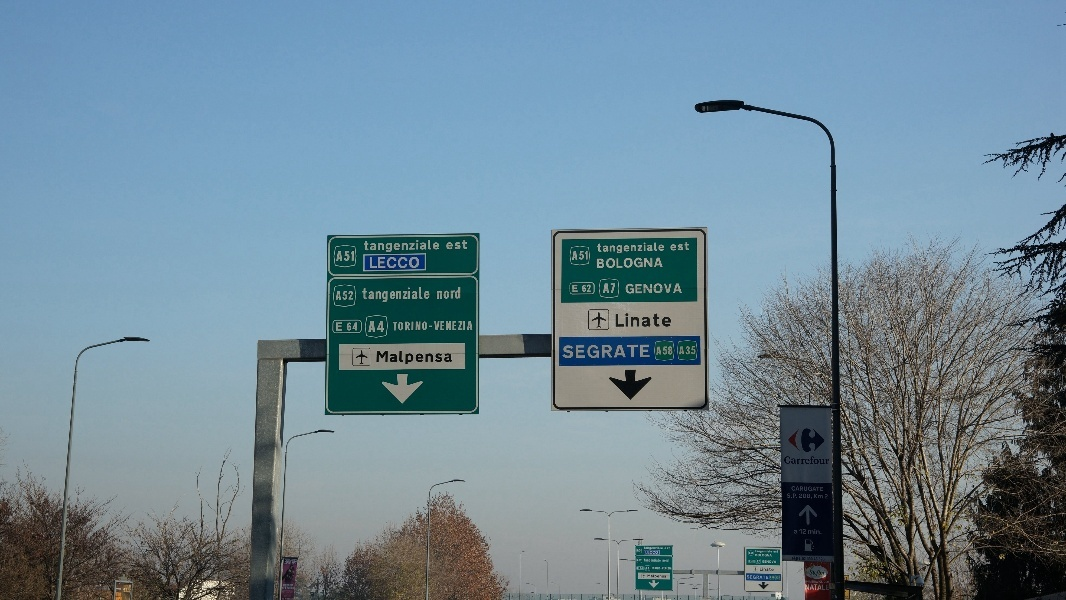text: (577, 344, 592, 360), (593, 344, 608, 360), (609, 344, 624, 360), (625, 344, 640, 360), (369, 288, 384, 303), (385, 288, 400, 303), (401, 288, 416, 303), (385, 351, 400, 366), (401, 351, 416, 366), (417, 351, 432, 366), (433, 351, 448, 366), (625, 313, 640, 328), (641, 313, 656, 328), (657, 313, 672, 328), (369, 240, 384, 253), (385, 240, 400, 253), (401, 240, 416, 253), (417, 240, 432, 253), (417, 288, 430, 303), (609, 242, 624, 255), (625, 242, 640, 255), (641, 242, 656, 255), (564, 344, 576, 360), (385, 257, 400, 269), (401, 257, 416, 269), (625, 283, 640, 295), (641, 283, 656, 295), (657, 283, 672, 295), (370, 321, 384, 333), (370, 257, 384, 269), (401, 321, 416, 332), (417, 321, 432, 332), (433, 321, 448, 332), (449, 321, 464, 332), (449, 239, 464, 250), (673, 241, 688, 252), (609, 258, 624, 269), (625, 258, 640, 269), (641, 258, 656, 269), (449, 287, 461, 300), (338, 251, 352, 262), (641, 344, 650, 360), (437, 287, 448, 300), (597, 242, 608, 255), (337, 291, 352, 300), (615, 313, 624, 328), (657, 347, 672, 356), (785, 456, 800, 465), (801, 456, 816, 465), (597, 258, 608, 269), (673, 283, 683, 295), (817, 456, 830, 465), (577, 251, 588, 261), (377, 351, 384, 366), (657, 242, 665, 255), (433, 240, 440, 253), (362, 288, 368, 303), (801, 486, 816, 492), (465, 321, 473, 332), (582, 285, 592, 293), (753, 575, 769, 580), (393, 321, 400, 332), (657, 258, 664, 269), (609, 283, 616, 294), (801, 494, 816, 499), (817, 570, 827, 577), (817, 585, 830, 590), (681, 346, 688, 355), (689, 346, 696, 355), (788, 494, 800, 499), (817, 494, 829, 499), (802, 557, 816, 561), (364, 240, 368, 253), (817, 580, 830, 584), (806, 585, 816, 590), (644, 559, 656, 563), (792, 486, 800, 492), (808, 529, 816, 535), (347, 322, 352, 331), (353, 322, 358, 331), (449, 351, 452, 366), (657, 567, 672, 570), (641, 567, 656, 570), (817, 486, 824, 492), (646, 567, 656, 571), (646, 551, 656, 555), (417, 257, 420, 269), (644, 547, 656, 550), (657, 575, 666, 579), (801, 529, 807, 535), (817, 557, 826, 561), (756, 554, 768, 557), (663, 559, 672, 563), (811, 570, 816, 577), (465, 239, 468, 250), (605, 283, 608, 294), (648, 575, 656, 579), (769, 560, 777, 564), (760, 568, 768, 572), (665, 547, 672, 551), (573, 284, 576, 293), (747, 575, 752, 580), (794, 530, 800, 534), (817, 529, 821, 535), (810, 580, 816, 584), (756, 551, 768, 553), (769, 568, 775, 572), (446, 239, 448, 250), (670, 241, 672, 252), (574, 251, 576, 261), (806, 581, 816, 583), (763, 560, 768, 564), (657, 547, 663, 550), (657, 559, 661, 563), (769, 554, 773, 557), (652, 567, 656, 570), (353, 251, 354, 262), (689, 241, 690, 252), (353, 291, 354, 300), (577, 284, 578, 293), (769, 551, 773, 553), (638, 549, 640, 553), (657, 551, 659, 555), (799, 529, 800, 535), (638, 559, 640, 562), (638, 567, 640, 570), (641, 549, 642, 553), (641, 559, 642, 562)
